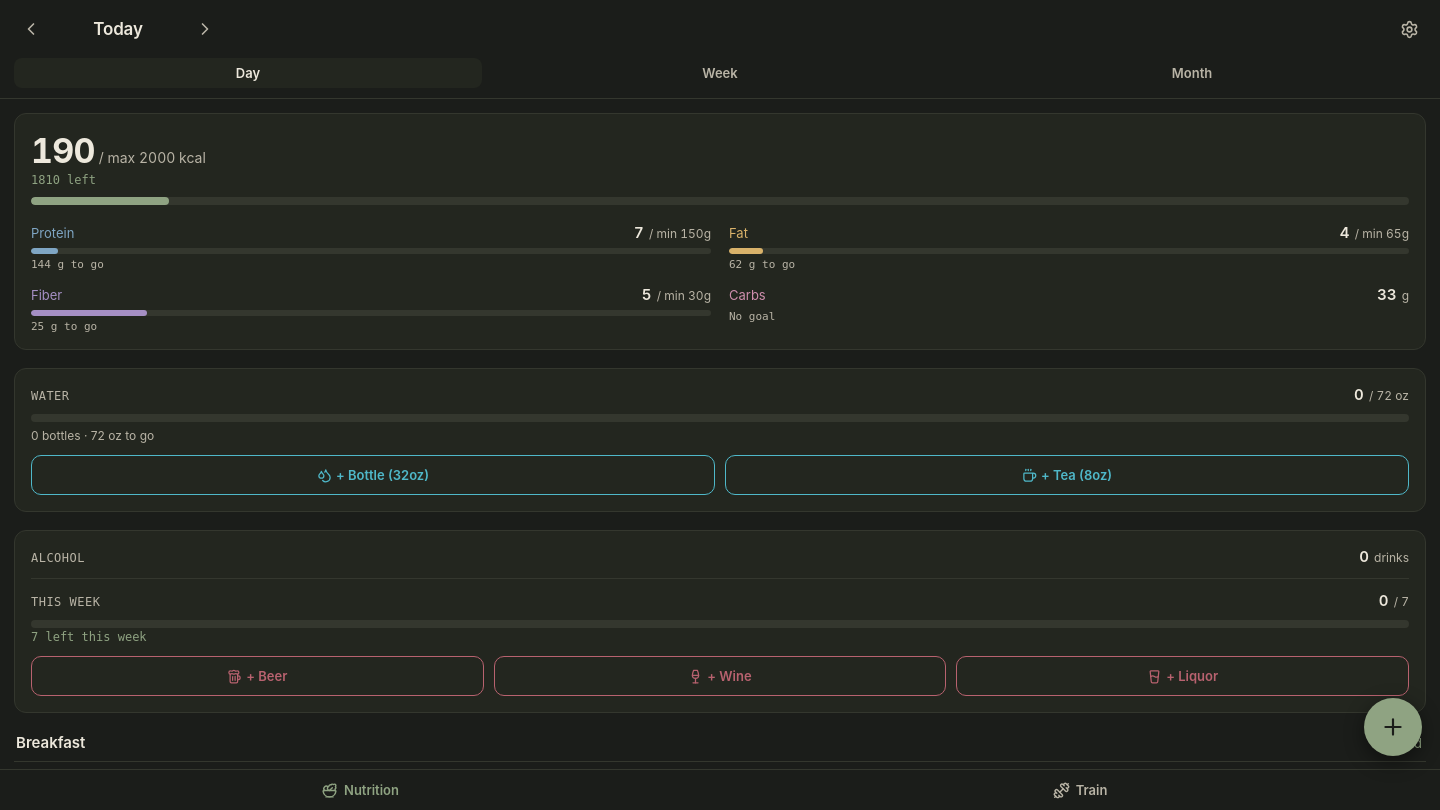
Test: App › polling a running lookup › keeps asking through a failed poll
Click the button named "Add food".
click(1393, 727)  # box [1364,698,1422,756]
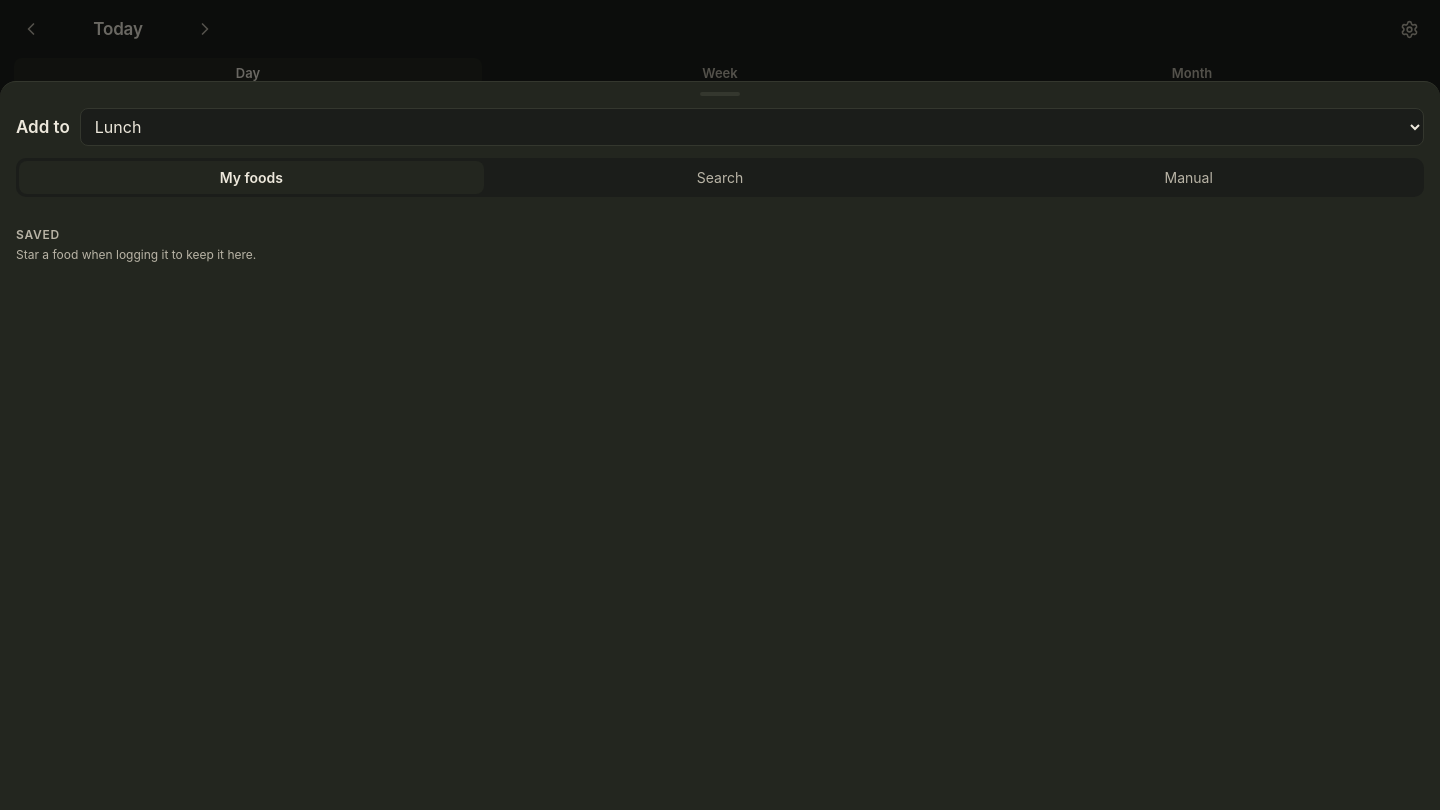
Click the tab "Search".
click(720, 178)  # box [488,161,952,194]
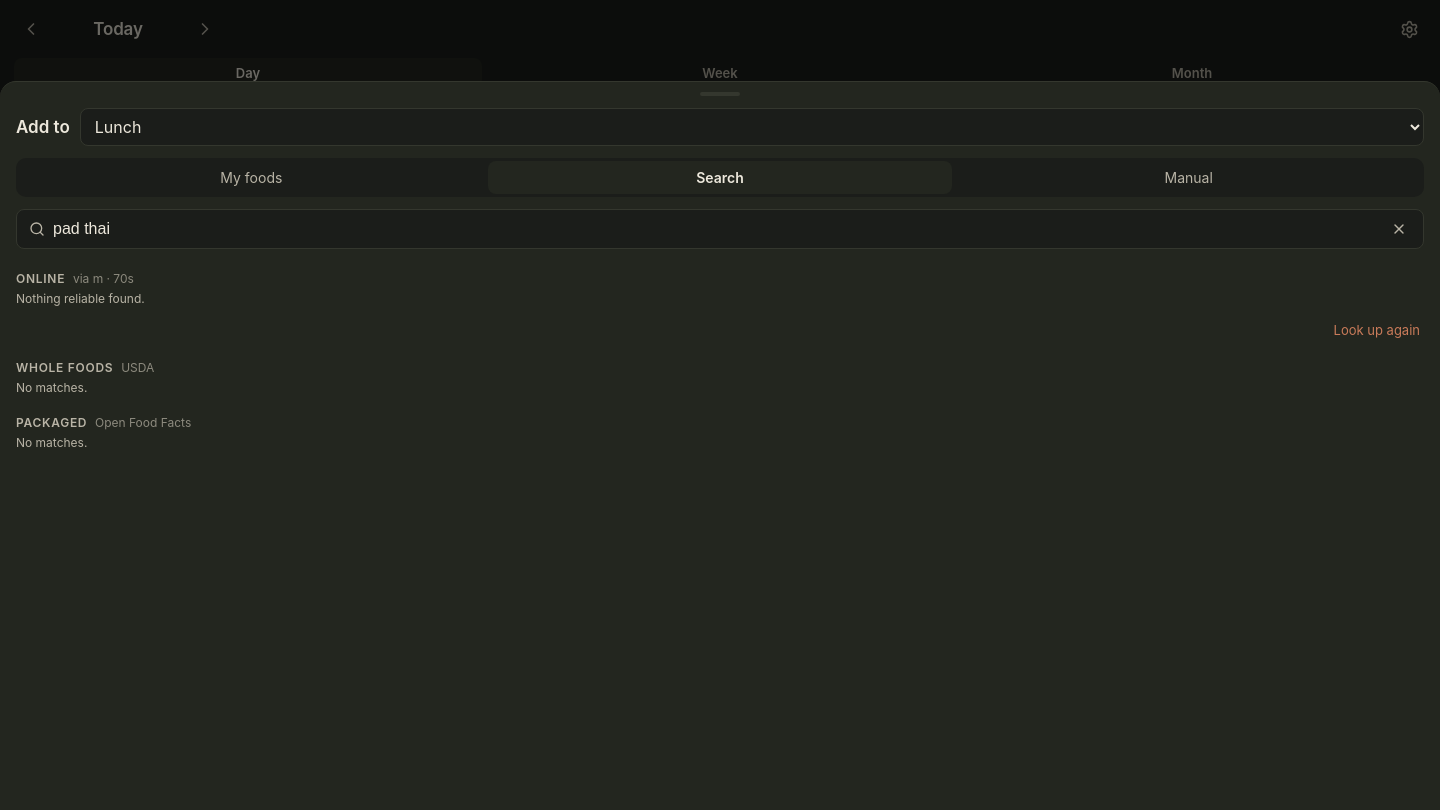
Expected: the text "Nothing reliable found." is shown, [16,291,145,306]
